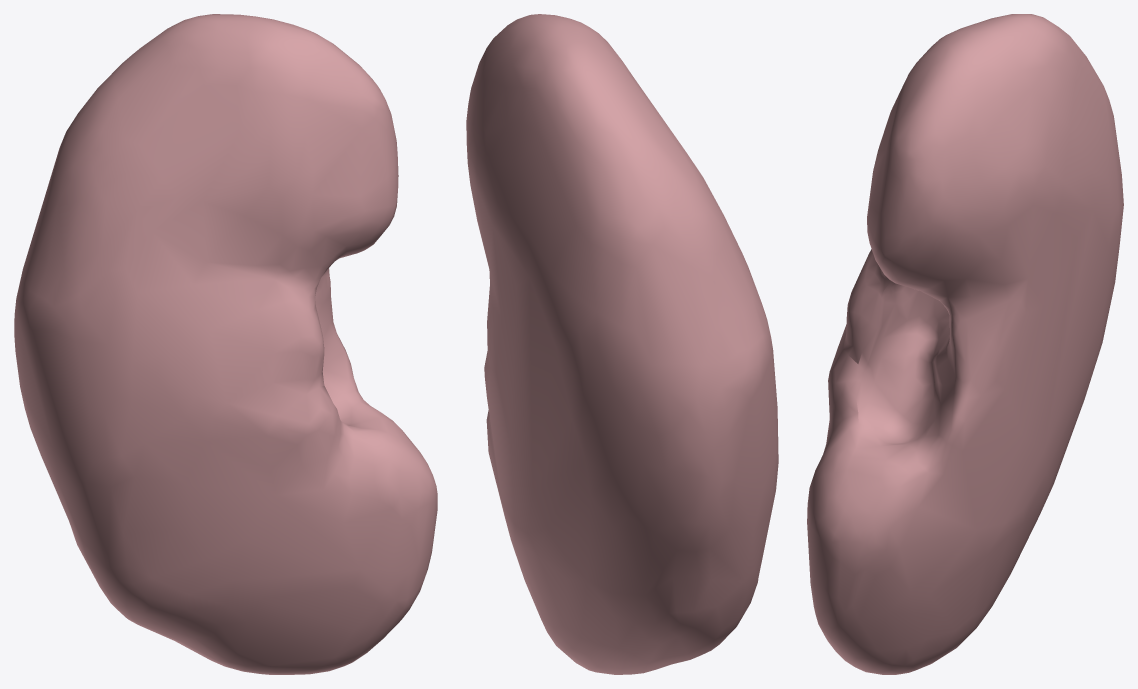
Rendered from fma7204_fj3147.glb.
3 views of the same model, side by side, from view 1: azimuth 30°, elevation 25°; view 2: azimuth 150°, elevation 25°; view 3: azimuth 270°, elevation 25° (orthographic). The views are drawn at different scales.
Visible parts, largest first — view 1: FMA7204_FJ3147; view 2: FMA7204_FJ3147; view 3: FMA7204_FJ3147.
Part boxes in pixels (bbox=[...]): FMA7204_FJ3147: bbox=[14, 14, 437, 674]; FMA7204_FJ3147: bbox=[466, 14, 778, 674]; FMA7204_FJ3147: bbox=[807, 14, 1123, 674].
Size of the model in its own units: 0.0571 by 0.1044 by 0.0472.
